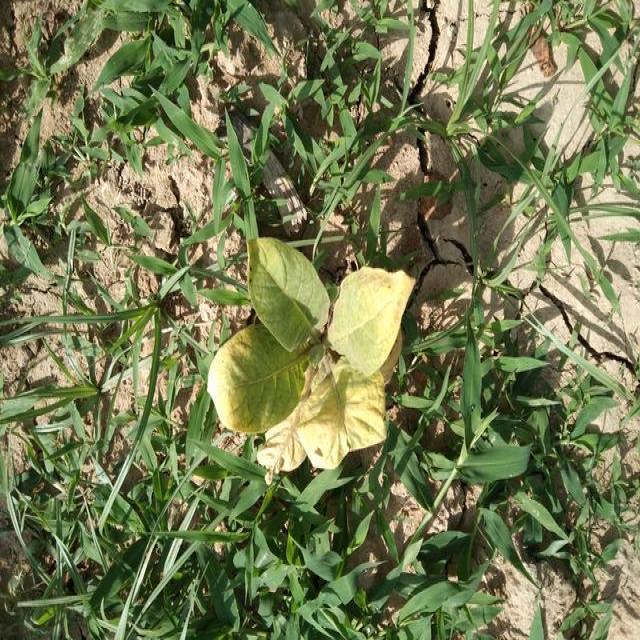crop: (209, 230, 417, 493)
